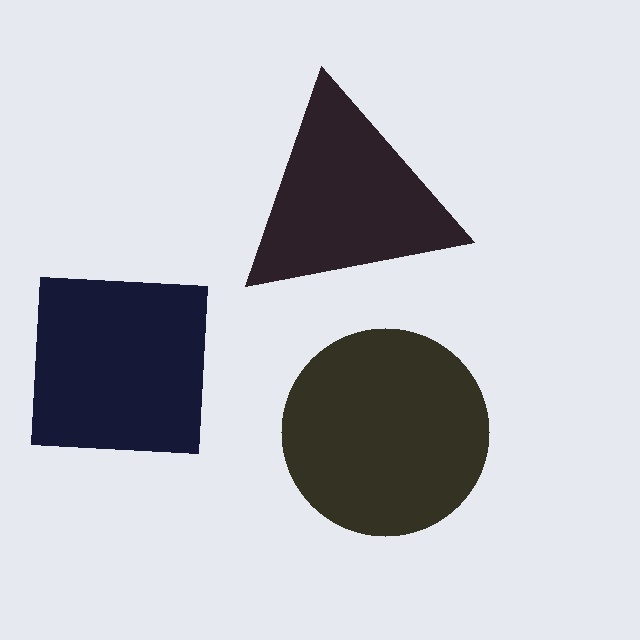circle: (280, 328, 489, 536)
square: (31, 276, 208, 453)
triangle: (245, 65, 475, 287)
